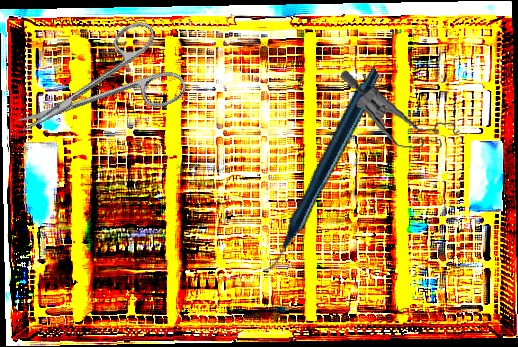Handpiece: (203, 64, 436, 275)
Iris Scissors: (0, 14, 190, 164)
Speculum: (333, 69, 466, 156)
